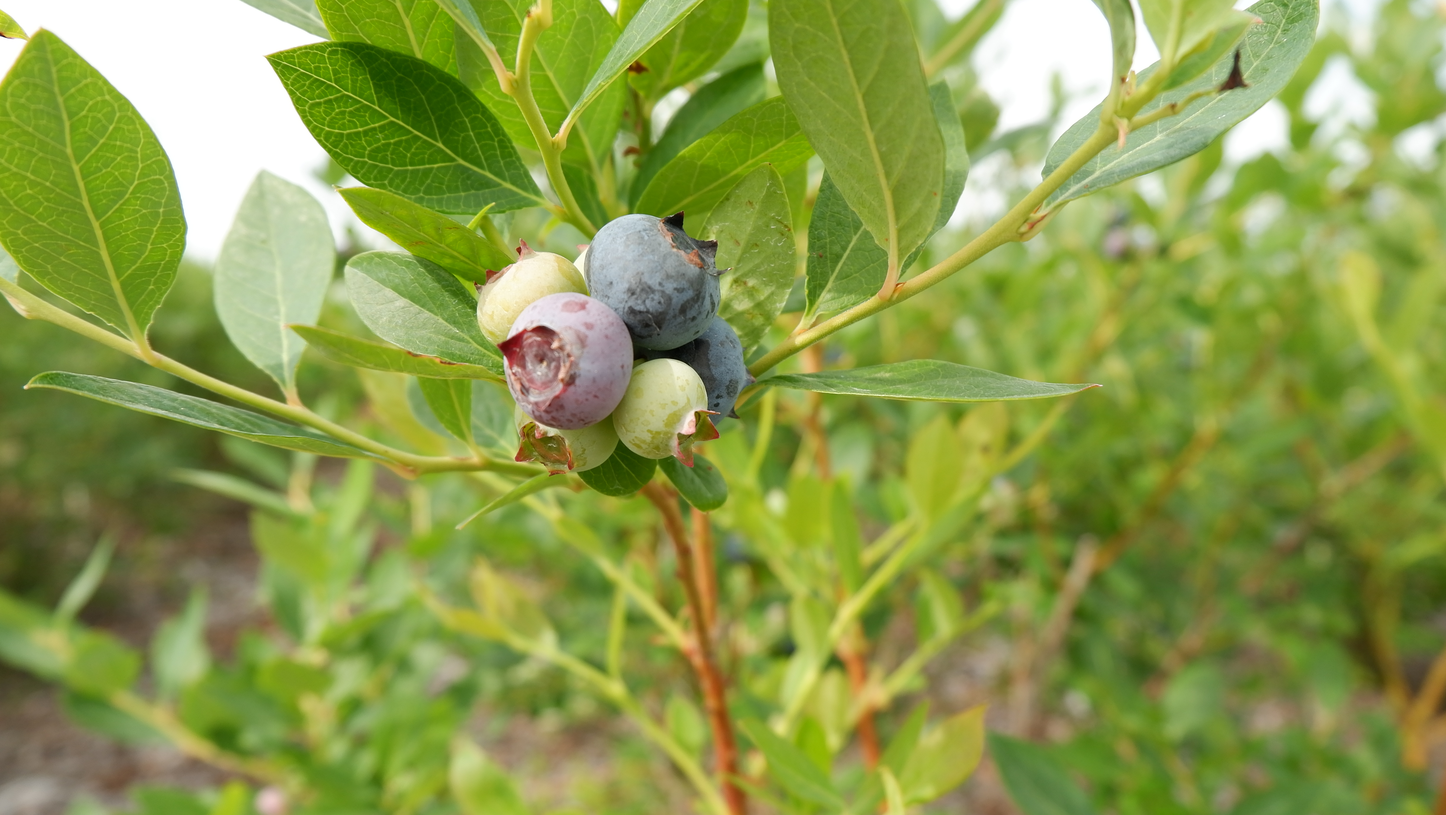Immature: (495, 292, 633, 431), (473, 238, 589, 346), (611, 358, 720, 468), (513, 404, 619, 477), (573, 245, 590, 283)
Mature: (584, 210, 732, 350), (639, 315, 755, 429)
